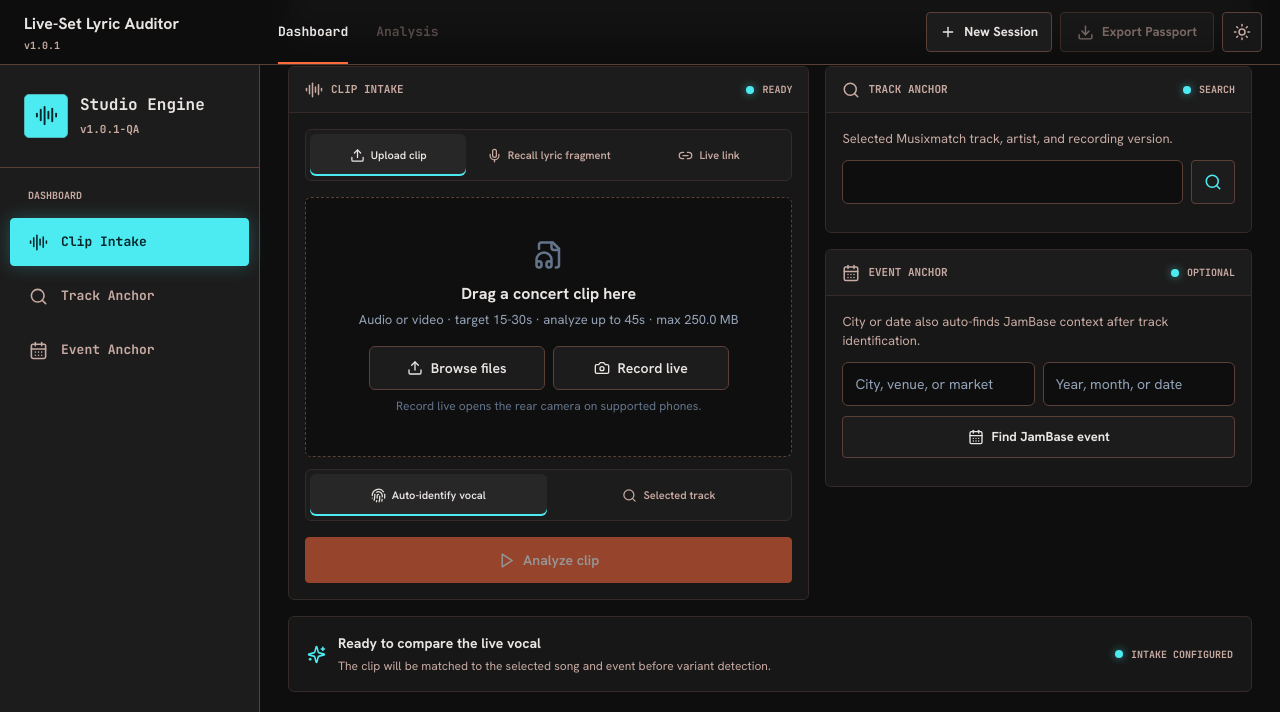
Test case: shows selected-track anchor controls directly in clip intake
(page scrolled)
Click the button "Selected track" at {"x": 669, "y": 495}, box x1=551 y1=474 x2=787 y2=516
(page scrolled)
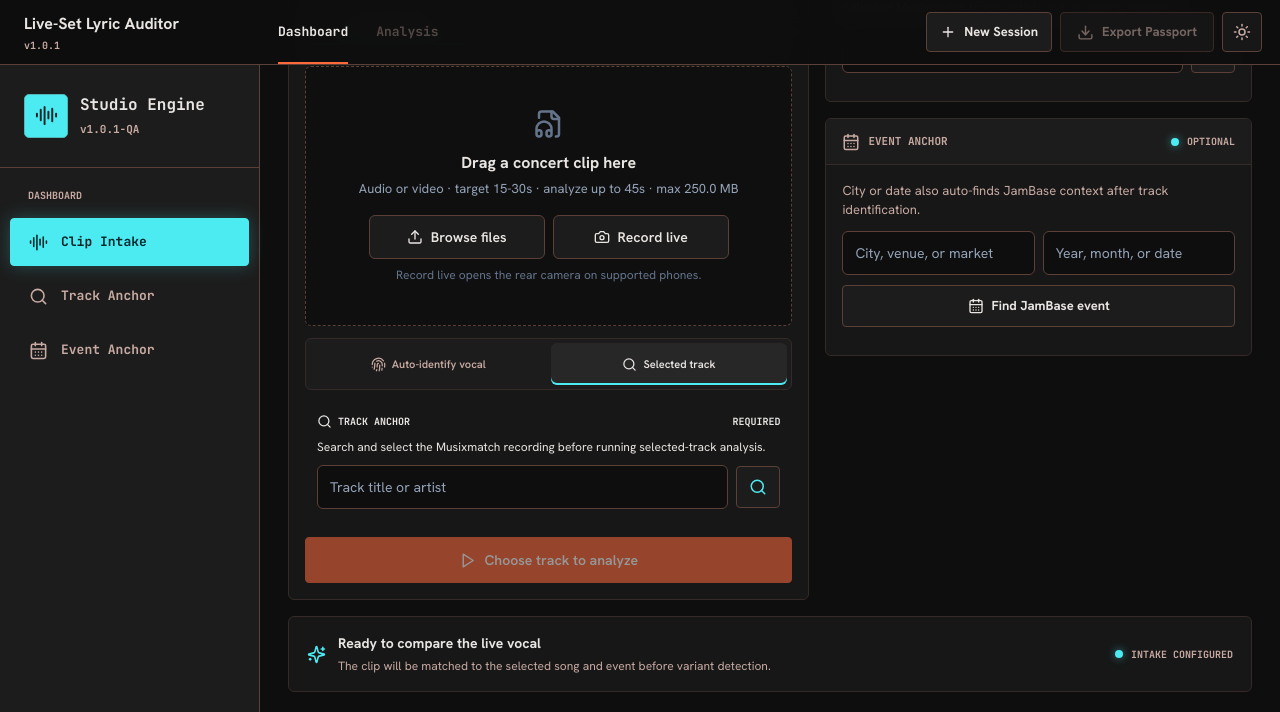
Check: the button "Choose track to analyze" is disabled, box x1=305 y1=537 x2=792 y2=583
Check: the text "Required" is shown, box x1=732 y1=414 x2=780 y2=429
Check: the field named "Selected track search" is shown
Type "Midnight Atlas" into the field named "Selected track search" at {"x": 523, "y": 487}, box x1=317 y1=465 x2=728 y2=509
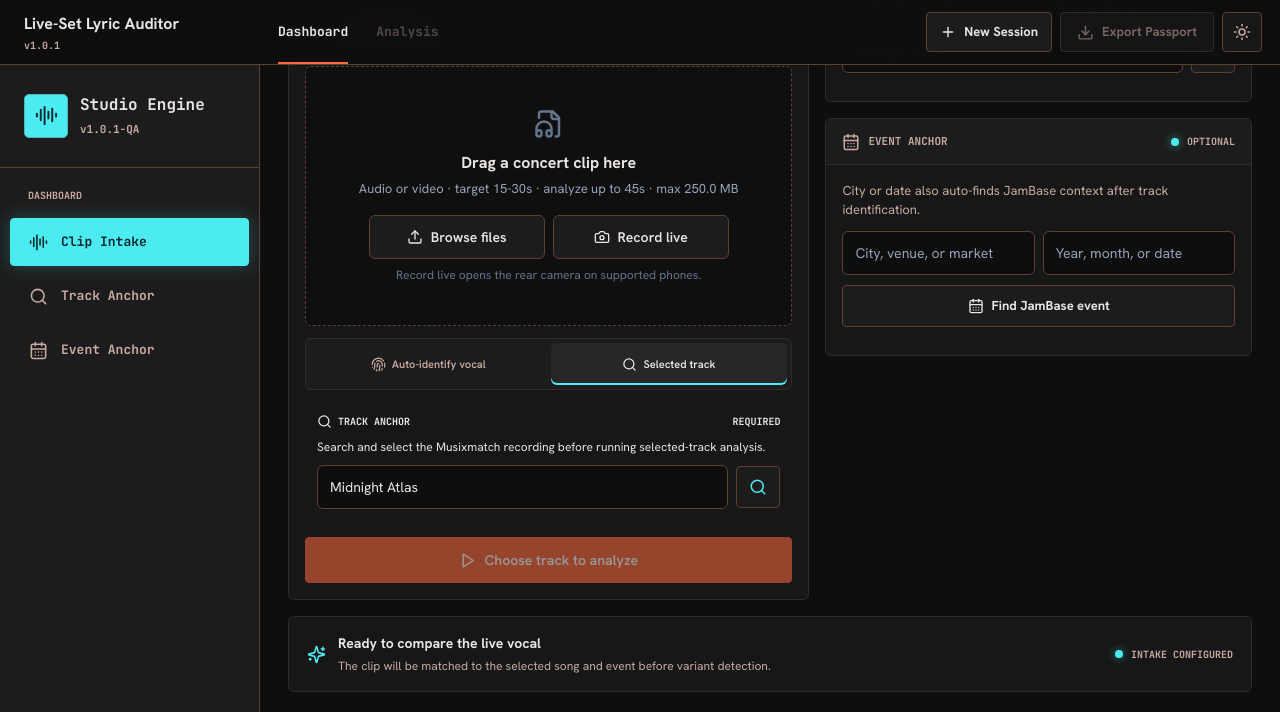
Click the button named "Search selected track" at {"x": 758, "y": 487}, box x1=736 y1=466 x2=780 y2=508
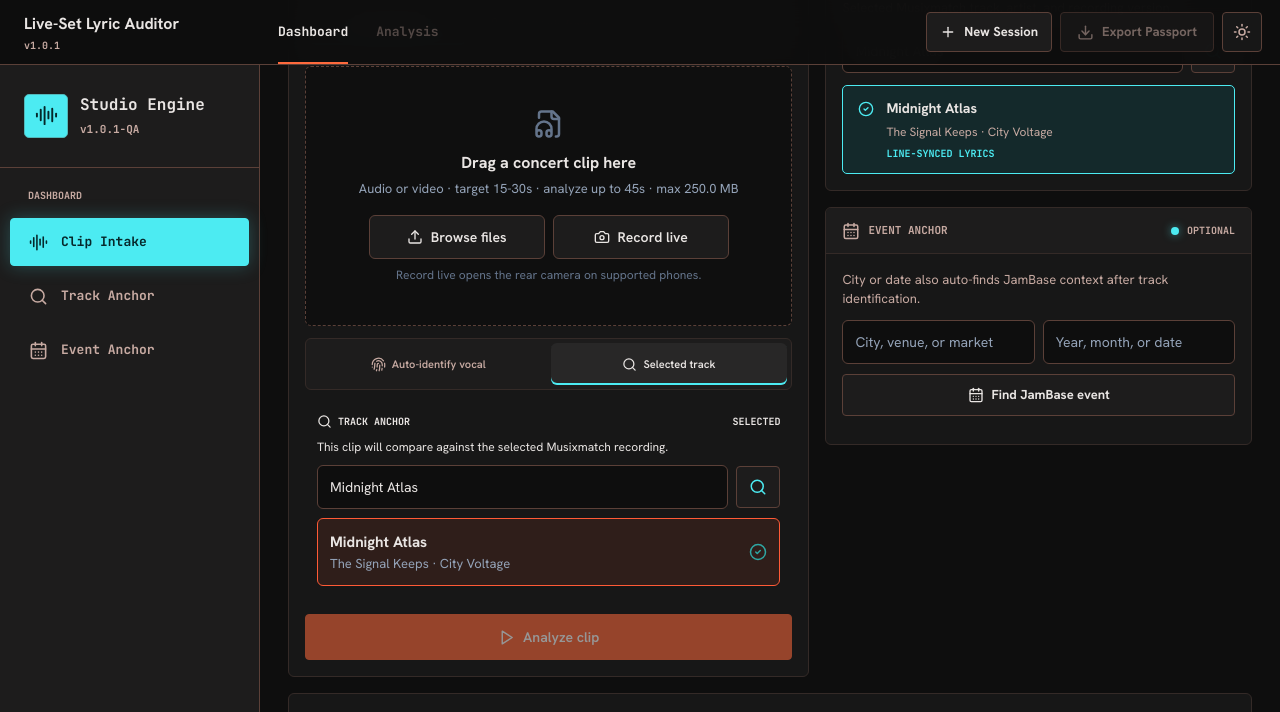
Check: the 2nd text "Midnight Atlas" is shown, box x1=330 y1=532 x2=427 y2=552
Check: the 2nd text "The Signal Keeps · City Voltage" is shown, box x1=330 y1=554 x2=510 y2=573
